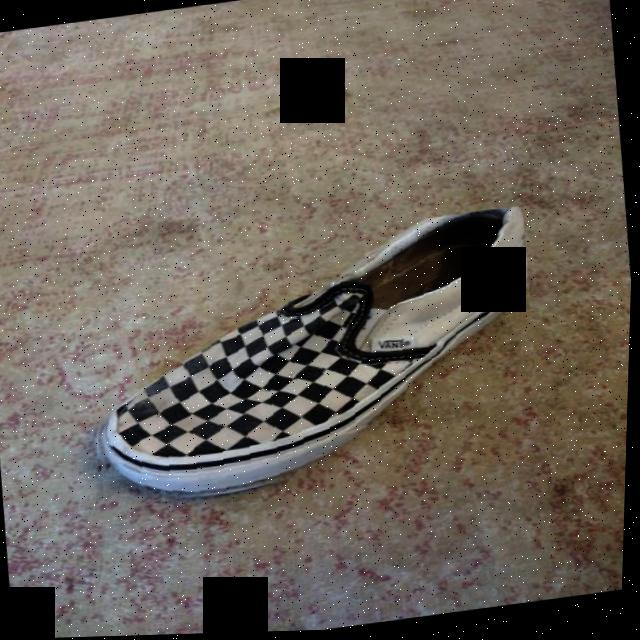shoe: (73, 208, 550, 514)
